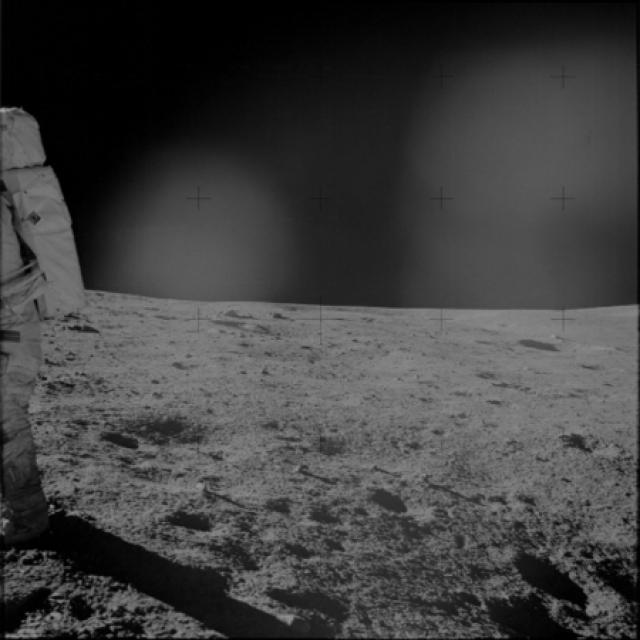crater: (477, 538, 618, 620), (105, 403, 245, 459), (294, 423, 397, 463), (514, 322, 628, 358), (284, 359, 435, 385), (445, 443, 527, 486), (552, 422, 632, 466), (349, 481, 420, 514), (158, 502, 218, 541), (231, 340, 305, 366), (90, 429, 151, 451)
rock: (220, 301, 247, 321), (262, 305, 291, 320)
